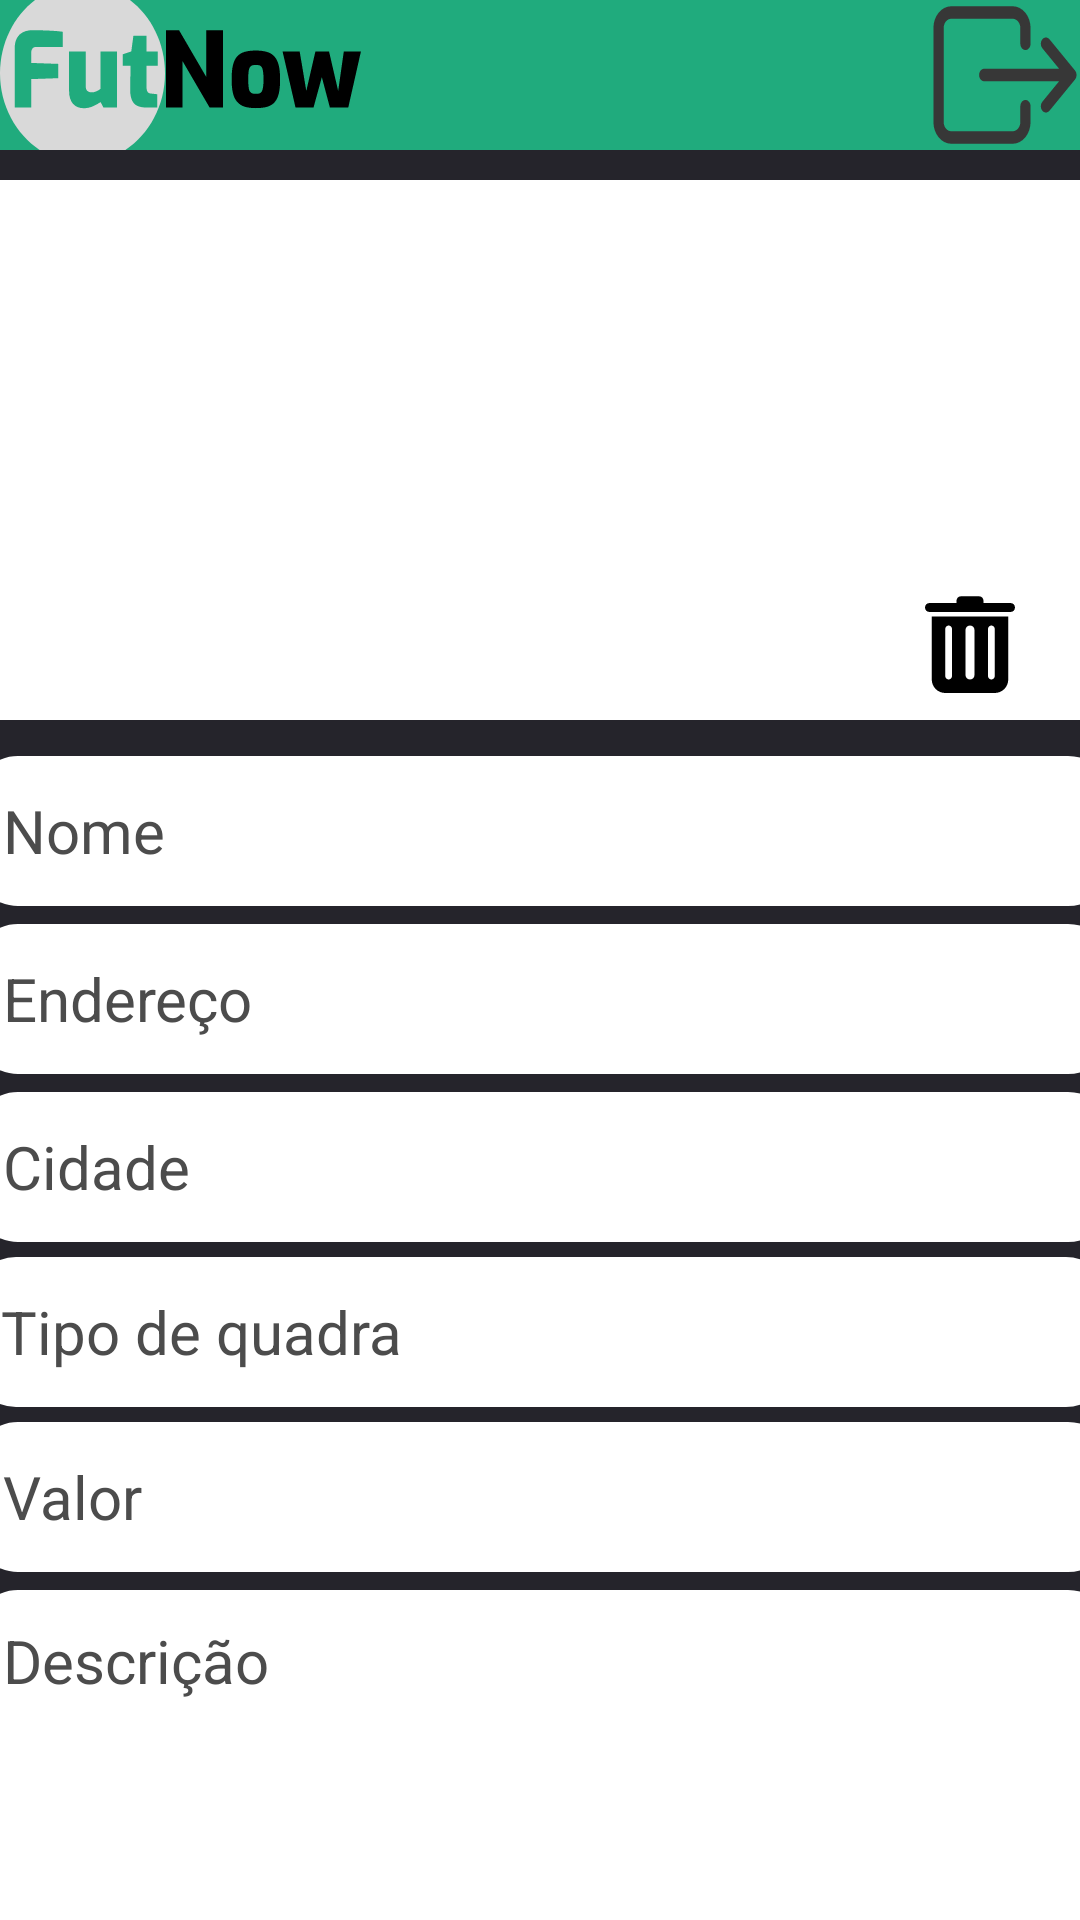

Icons on this 1080×1920 Android screen, each with its box as region(x1, y1, x2, y2):
trash: region(925, 596, 1015, 693)
